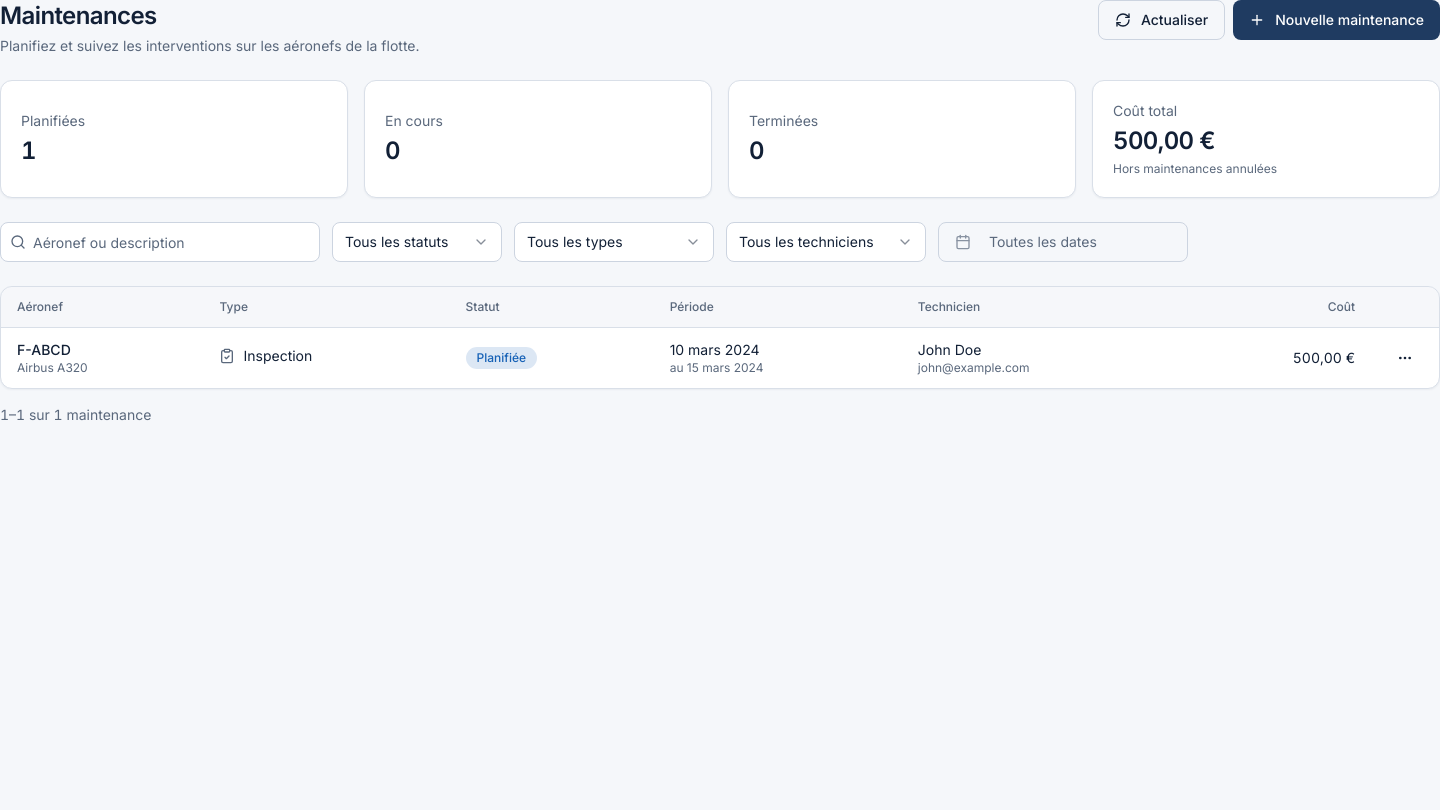
Test case: MaintenanceTablePage › doit afficher le prénom et le nom du technicien, et proposer les membres au rôle Technicien
Expected: the text "John Doe" is shown, [918,340,981,358]
Expected: the text "john@example.com" is shown, [918,360,1030,374]
What coordinates should you click on to do the following:
click the button named "Actions pour la maintenance de F-ABCD"
I would click on:
 (1405, 358)
Its box is [1387,340,1423,376].
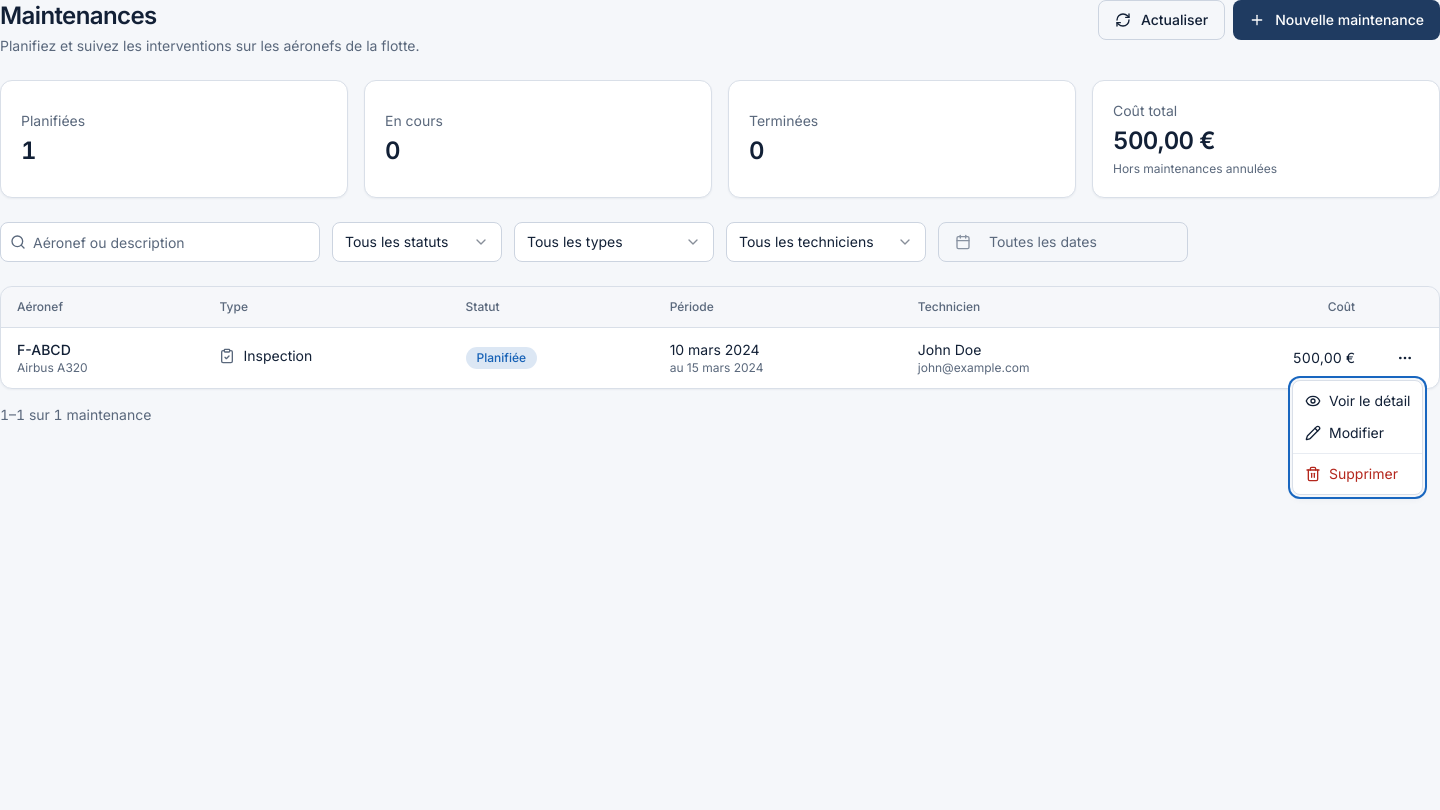
What coordinates should you click on to do the following:
click the menu item "Modifier"
I would click on:
 (1344, 432)
Its box is [1305,424,1384,441].
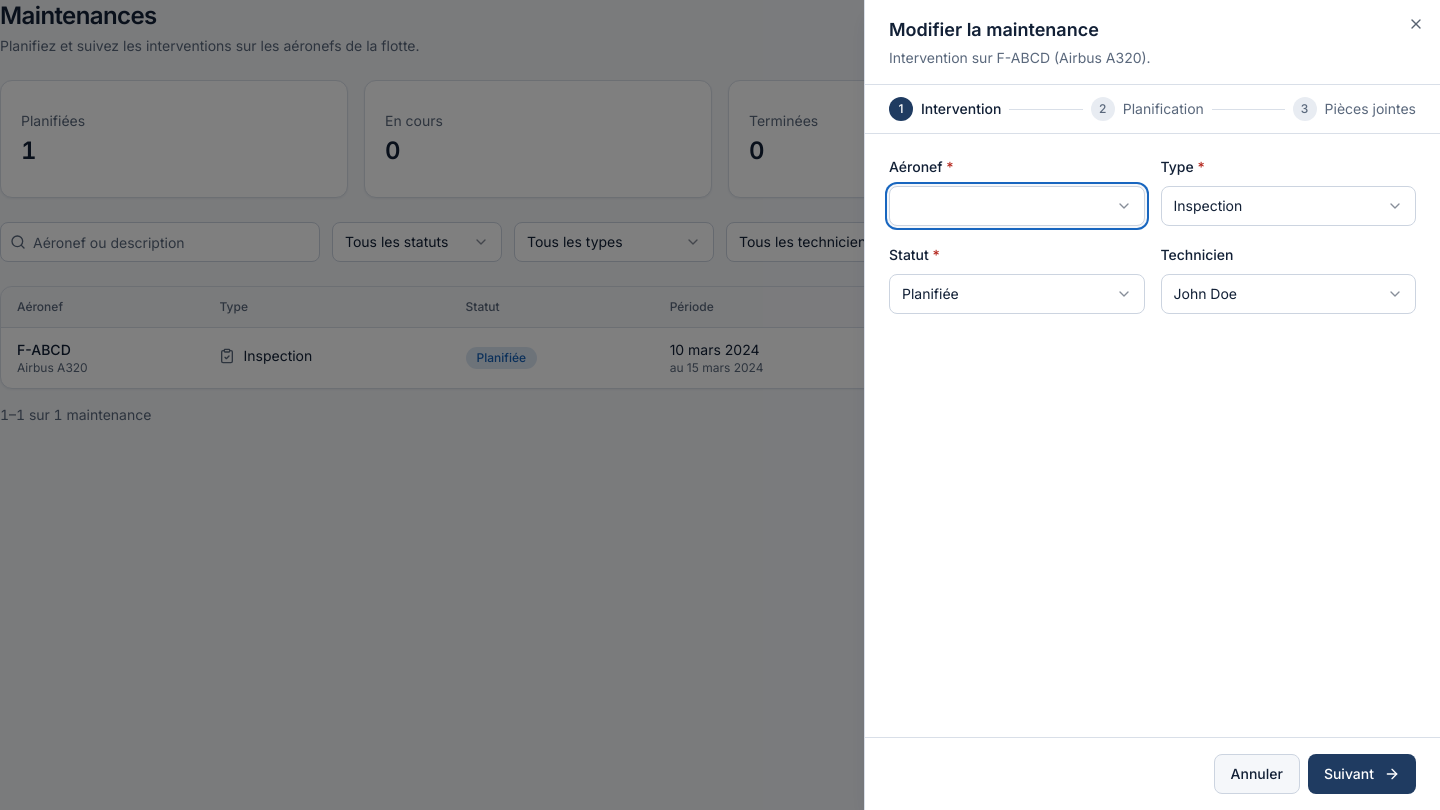
Expected: the dropdown named "Technicien" reads "John Doe"
What coordinates should you click on to do the following:
click the dropdown named "Technicien"
I would click on:
 (1288, 294)
Its box is [1160,274,1416,314].
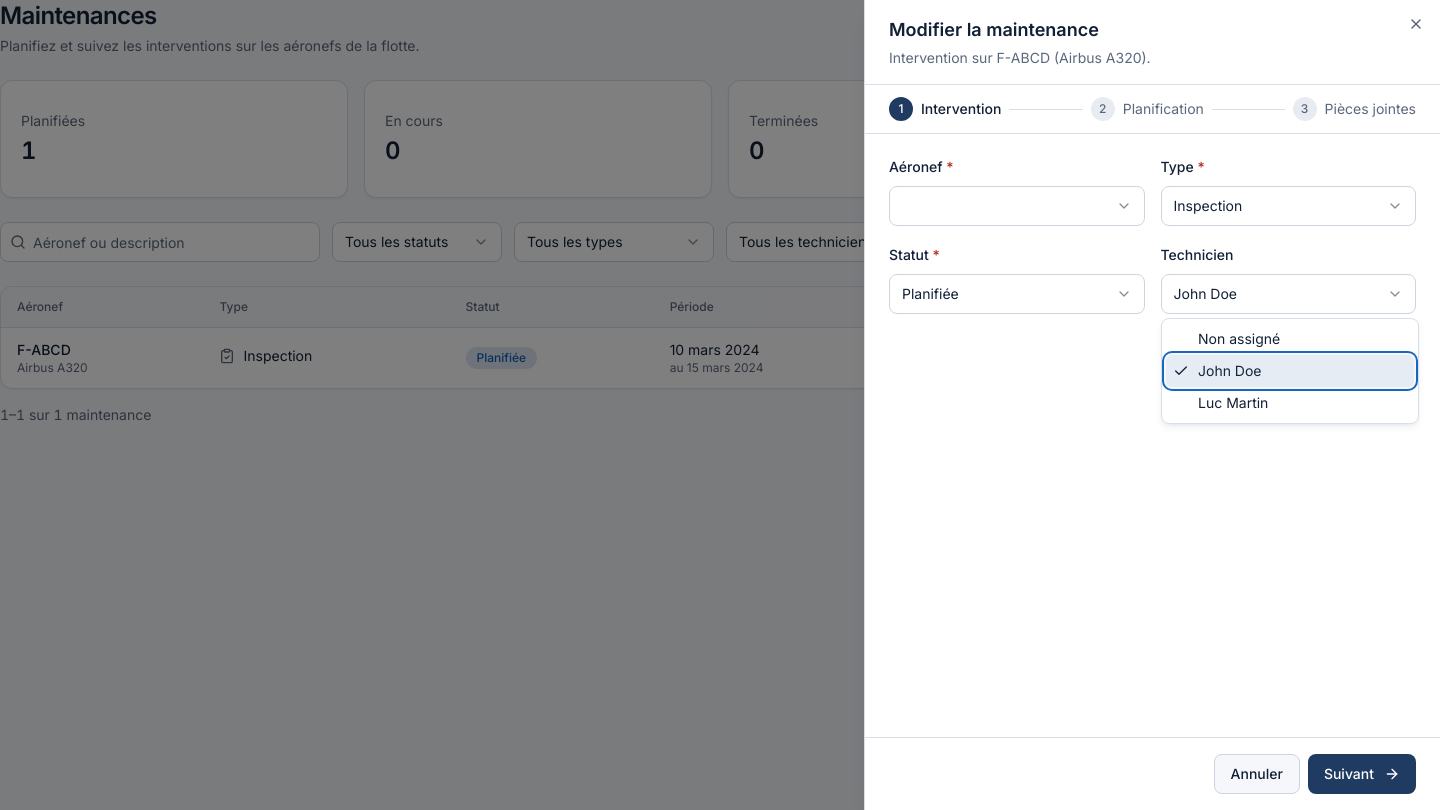
Expected: the options read "Non assigné", "John Doe", "Luc Martin", in this order, [1198,330,1280,347]; [1166,355,1414,387]; [1198,394,1268,411]
